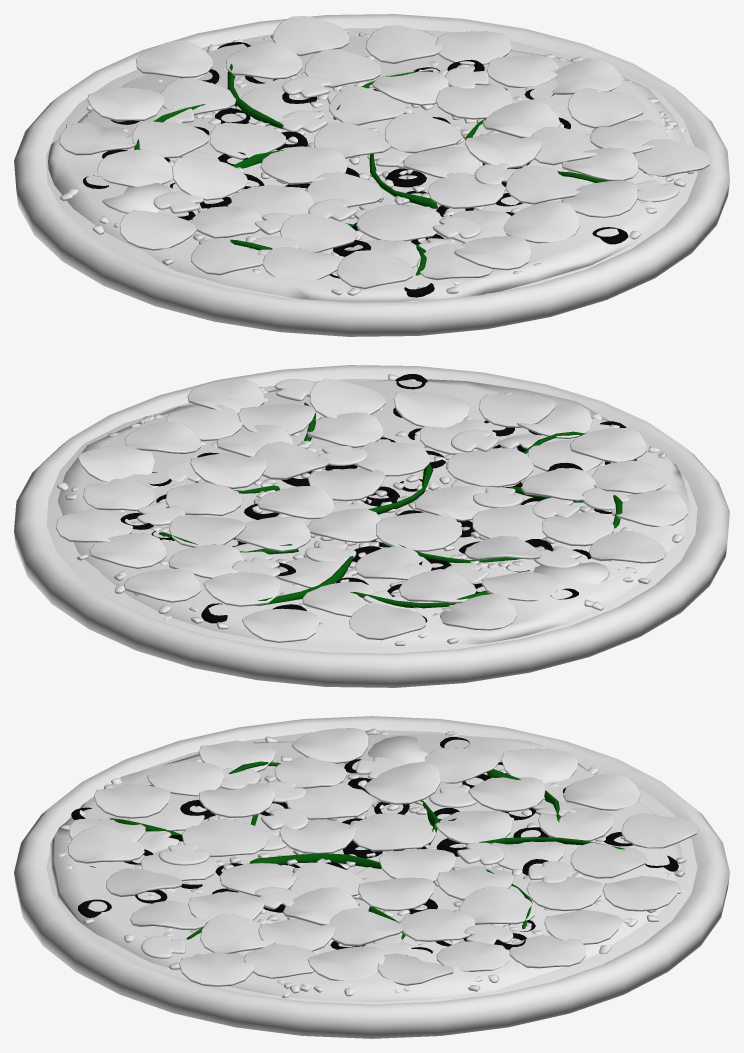
Rendered from 99avenue.fbx.
3 renders of one model, top to bottom at view 1: azimuth 30°, elevation 25°; view 2: azimuth 150°, elevation 25°; view 3: azimuth 270°, elevation 25°, orthographic.
Parts seen in each view (by area): view 1: pepperoni.002, pizzadow_burn_low.002, pizzacheese.002, mushroom,.001, pizzasource.002, corn.002, Olive.001, pepper.001; view 2: pepperoni.002, pizzadow_burn_low.002, pizzacheese.002, mushroom,.001, pizzasource.002, corn.002, Olive.001, pepper.001; view 3: pepperoni.002, pizzadow_burn_low.002, pizzacheese.002, mushroom,.001, pizzasource.002, corn.002, Olive.001, pepper.001.
Part boxes in pixels (x1,y1,x2,y2): pepperoni.002: [59, 16, 710, 289]; pizzadow_burn_low.002: [14, 14, 729, 336]; pizzacheese.002: [48, 36, 685, 302]; mushroom,.001: [153, 67, 679, 255]; pizzasource.002: [46, 28, 697, 301]; corn.002: [60, 30, 694, 295]; Olive.001: [83, 42, 645, 297]; pepper.001: [134, 64, 608, 275]; pepperoni.002: [56, 378, 687, 642]; pizzadow_burn_low.002: [14, 365, 729, 687]; pizzacheese.002: [57, 379, 690, 646]; mushroom,.001: [136, 379, 629, 608]; pizzasource.002: [46, 379, 697, 653]; corn.002: [57, 374, 683, 645]; Olive.001: [120, 374, 636, 623]; pepper.001: [159, 402, 627, 608]; pepperoni.002: [67, 728, 698, 986]; pizzadow_burn_low.002: [14, 716, 729, 1038]; pizzacheese.002: [50, 734, 684, 1001]; mushroom,.001: [139, 756, 581, 958]; pizzasource.002: [46, 730, 697, 1004]; corn.002: [58, 728, 686, 997]; Olive.001: [71, 737, 678, 955]; pepper.001: [109, 761, 625, 939].
Bounding box in the file's own units: 23.79 × 2.12 × 23.79.
